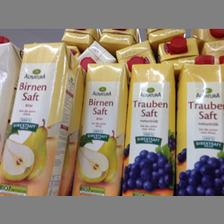Saft: (1, 42, 75, 194), (70, 62, 128, 194), (120, 58, 176, 194), (174, 53, 222, 196)
